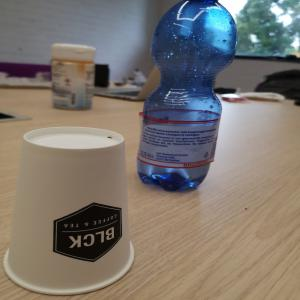Cup: (3, 127, 137, 297)
Plastic-bottle: (137, 1, 240, 194)
